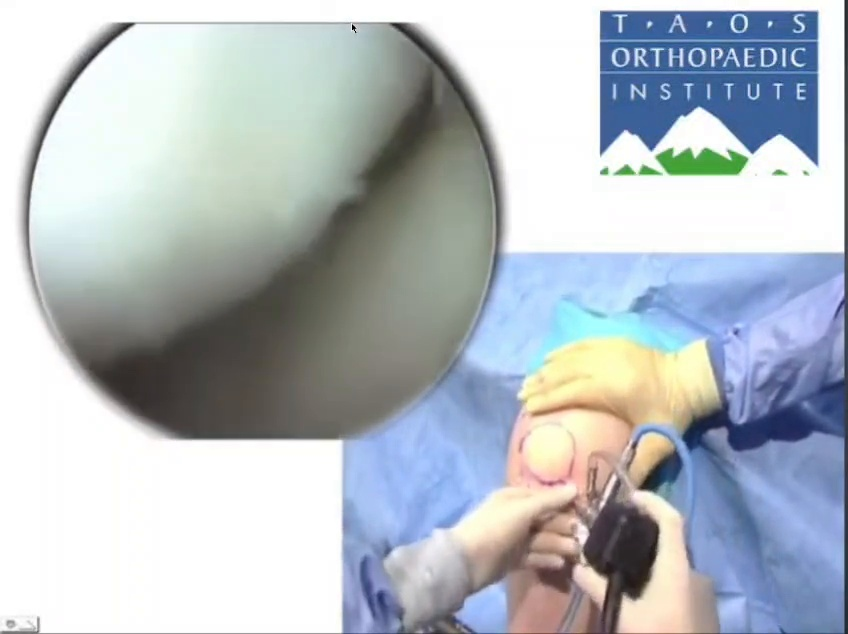arthroscope: (33, 0, 420, 339)
probe: (368, 195, 424, 354)
